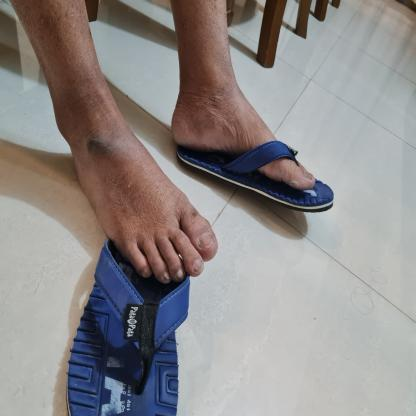leg: (3, 2, 223, 297), (162, 0, 338, 220)
